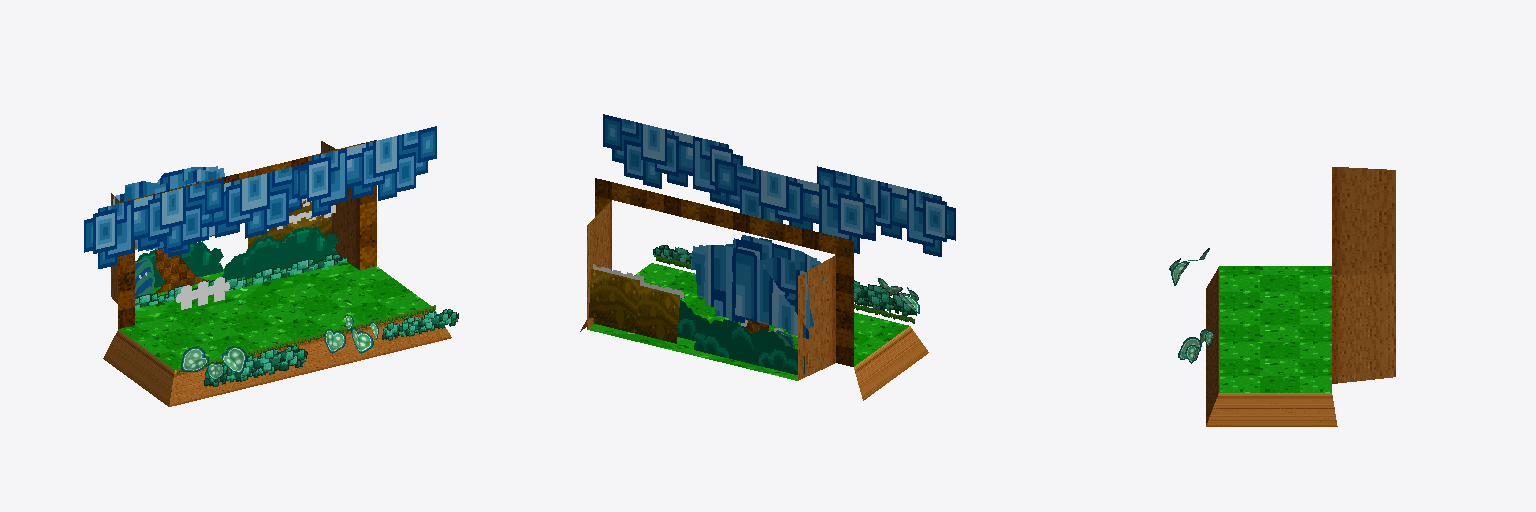
3 views of the same model, side by side, from view 1: azimuth 30°, elevation 25°; view 2: azimuth 150°, elevation 25°; view 3: azimuth 270°, elevation 25° (orthographic).
Bounding box in the file's own units: 0.53 × 0.26 × 0.291.
11 materials, 10 textured.